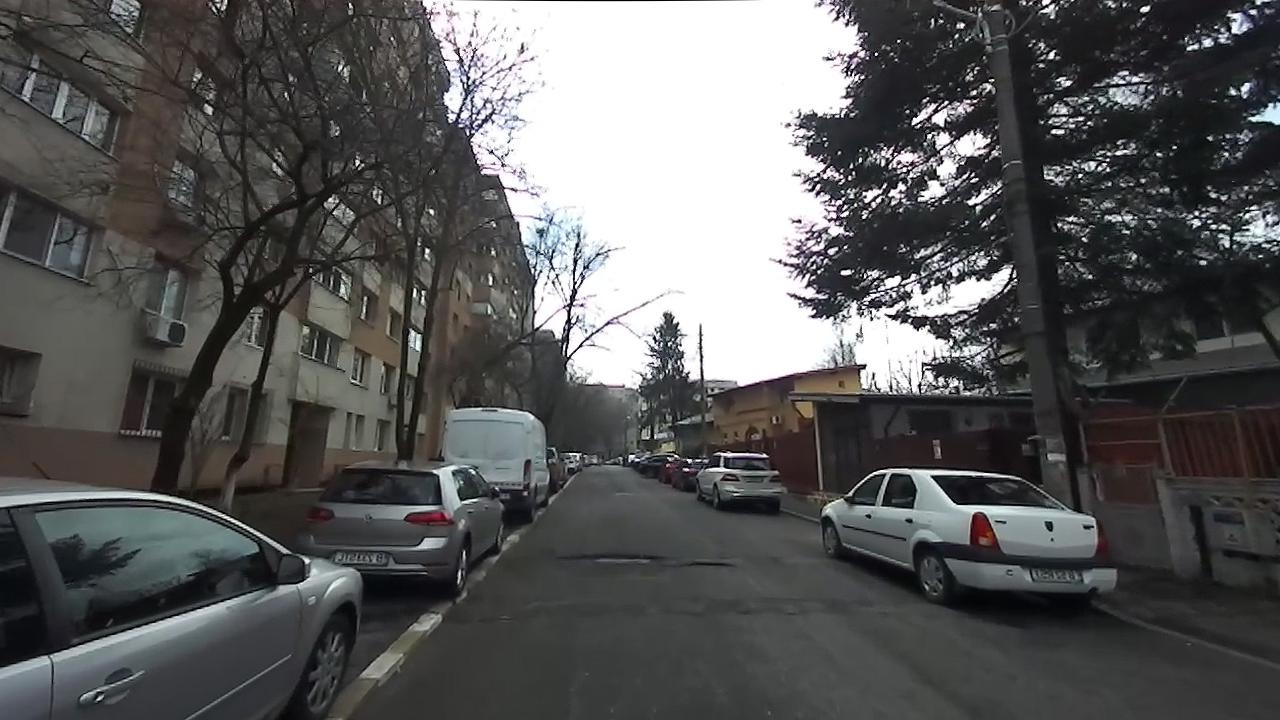pothole: (553, 549, 664, 571), (672, 559, 735, 573)
